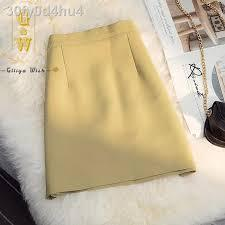skirt: (24, 11, 212, 203)
